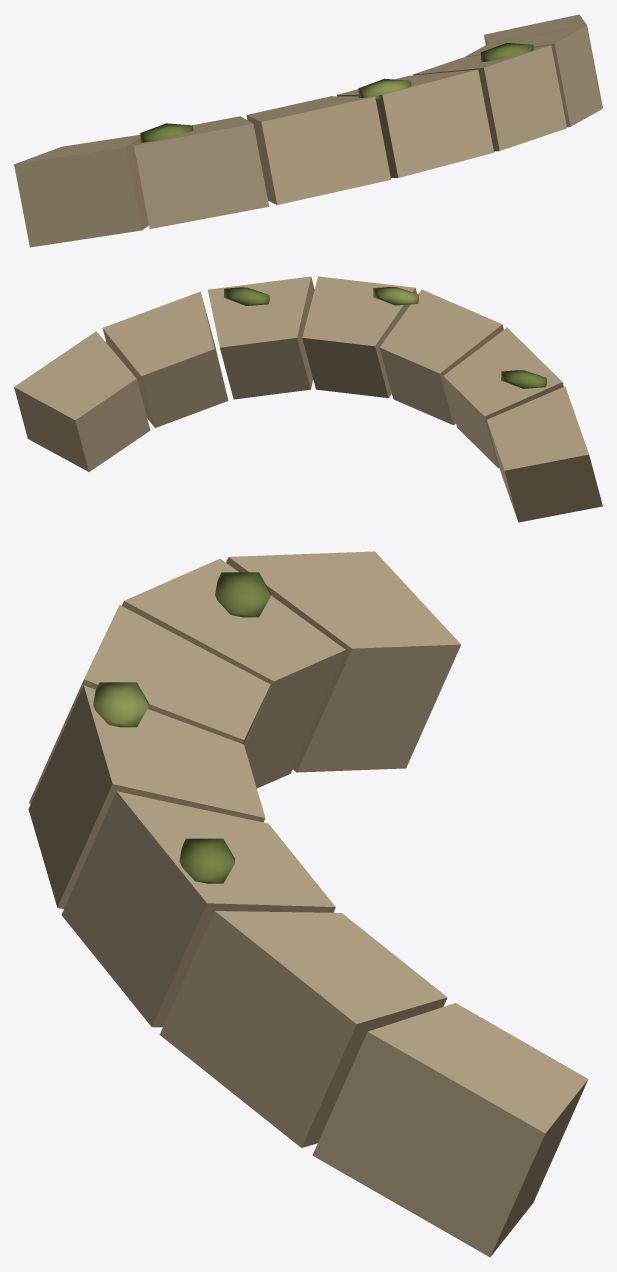
File: alc_ruin_arch.glb
The picture shows the model from 3 angles, top to bottom: view 1: azimuth 30°, elevation 25°; view 2: azimuth 150°, elevation 25°; view 3: azimuth 270°, elevation 25°; orthographic projection. The views are drawn at different scales.
Visible parts, largest first — view 1: alc_ruin_arch; view 2: alc_ruin_arch; view 3: alc_ruin_arch.
Boxes of the visible parts, left/top/right/bottom form: alc_ruin_arch: left=14, top=14, right=602, bottom=247; alc_ruin_arch: left=14, top=276, right=602, bottom=522; alc_ruin_arch: left=28, top=551, right=588, bottom=1257.
Bounding box in the file's own units: 2.42 × 0.6731 × 1.1.
